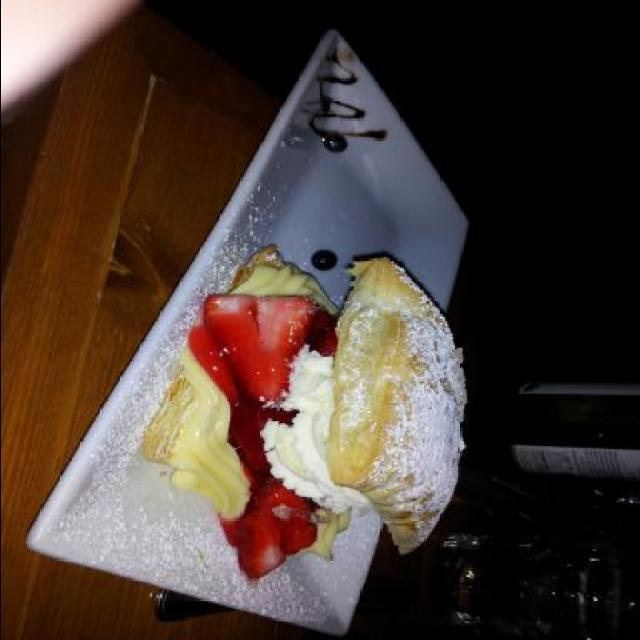Sandwich: (142, 246, 474, 574)
